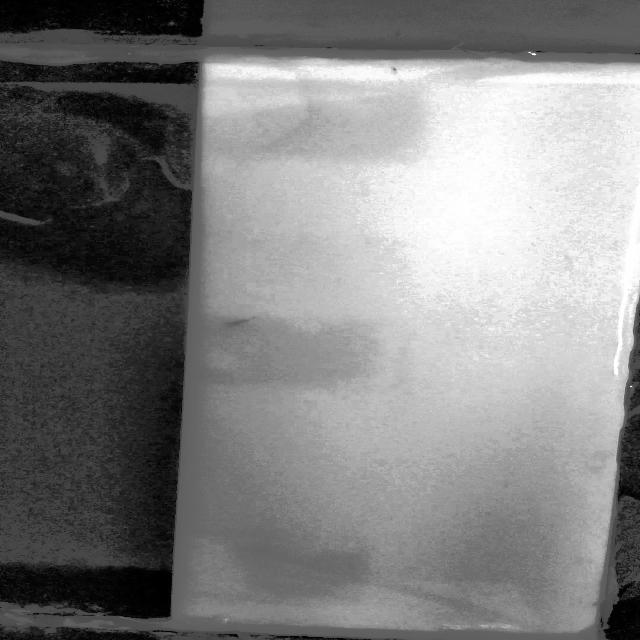shrimp: (221, 312, 272, 331)
